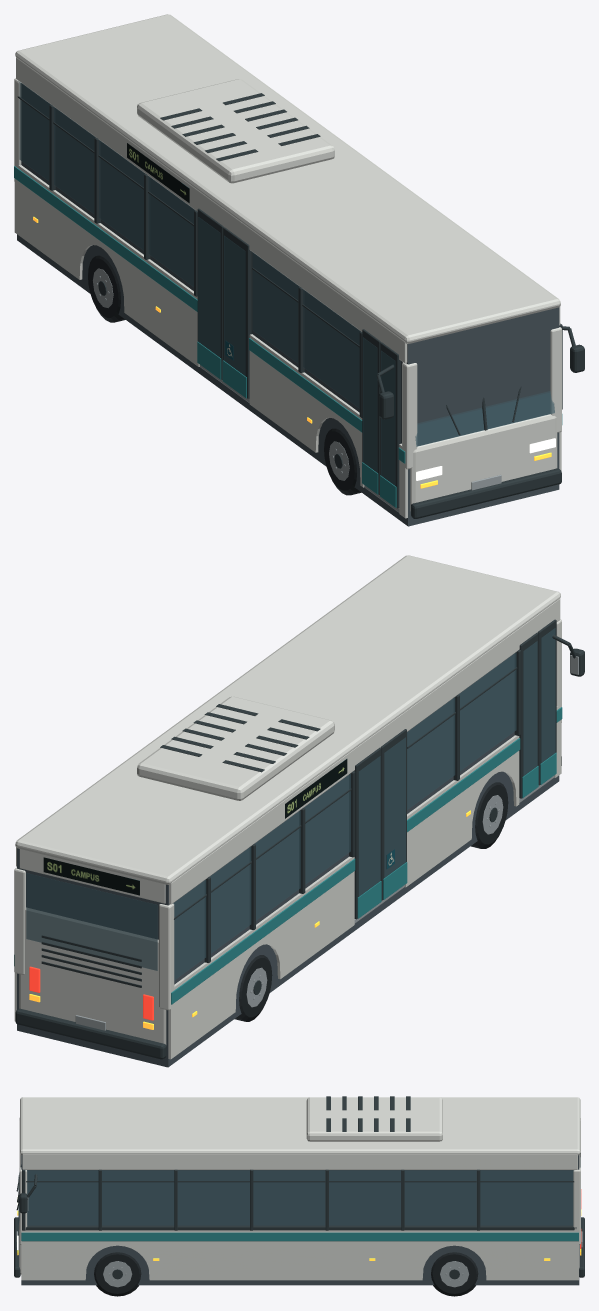
The model's file is SIMUS_City_Bus.fbx.
The picture shows the model from 3 angles, top to bottom: view 1: azimuth 30°, elevation 25°; view 2: azimuth 150°, elevation 25°; view 3: azimuth 270°, elevation 25°; orthographic projection. The views are drawn at different scales.
Parts seen in each view (by area): view 1: BUS_BODY_Paint_LOD0, BUS_WINDOWS_Glass_LOD0, BUS_COL_0, BUS_Roof_AC_LOD0, BUS_COL_2, BUS_COL_1, BUS_DOOR_MIDDLE_Trim_LOD0, BUS_BODY_Trim_LOD0, BUS_DOOR_MIDDLE_Glass_LOD0, BUS_DOOR_FRONT_Trim_LOD0, BUS_BODY_Accent_LOD0, BUS_DOOR_FRONT_Glass_LOD0 (+8 smaller); view 2: BUS_BODY_Paint_LOD0, BUS_WINDOWS_Glass_LOD0, BUS_COL_2, BUS_Roof_AC_LOD0, BUS_COL_1, BUS_BODY_Trim_LOD0, BUS_DOOR_MIDDLE_Trim_LOD0, BUS_COL_0, BUS_DOOR_MIDDLE_Glass_LOD0, BUS_DOOR_FRONT_Trim_LOD0, BUS_BODY_Accent_LOD0, BUS_DOOR_FRONT_Glass_LOD0 (+8 smaller); view 3: BUS_BODY_Paint_LOD0, BUS_WINDOWS_Glass_LOD0, BUS_COL_1, BUS_COL_2, BUS_COL_0, BUS_BODY_Accent_LOD0, BUS_Roof_AC_LOD0, BUS_BODY_Trim_LOD0, BUS_Tire_FL_LOD0, BUS_Tire_RL_LOD0, BUS_WINDOWS_Trim_LOD0, BUS_ROOF_AC_Trim_LOD0 (+2 smaller).
Part boxes in pixels (x1,y1,x2,y2): BUS_BODY_Paint_LOD0: [14, 14, 561, 518]; BUS_WINDOWS_Glass_LOD0: [18, 81, 554, 446]; BUS_COL_0: [291, 280, 559, 526]; BUS_Roof_AC_LOD0: [137, 79, 334, 183]; BUS_COL_2: [17, 83, 134, 325]; BUS_COL_1: [134, 166, 290, 440]; BUS_DOOR_MIDDLE_Trim_LOD0: [197, 208, 251, 398]; BUS_BODY_Trim_LOD0: [49, 104, 562, 518]; BUS_DOOR_MIDDLE_Glass_LOD0: [198, 217, 245, 375]; BUS_DOOR_FRONT_Trim_LOD0: [362, 329, 400, 508]; BUS_BODY_Accent_LOD0: [14, 166, 562, 463]; BUS_DOOR_FRONT_Glass_LOD0: [363, 337, 395, 485]; BUS_BODY_Paint_LOD0: [14, 555, 561, 1059]; BUS_WINDOWS_Glass_LOD0: [26, 652, 516, 980]; BUS_COL_2: [17, 822, 285, 1067]; BUS_Roof_AC_LOD0: [137, 696, 334, 800]; BUS_COL_1: [285, 707, 441, 981]; BUS_BODY_Trim_LOD0: [15, 649, 561, 1059]; BUS_DOOR_MIDDLE_Trim_LOD0: [354, 729, 406, 919]; BUS_COL_0: [442, 653, 559, 866]; BUS_DOOR_MIDDLE_Glass_LOD0: [358, 737, 405, 896]; BUS_DOOR_FRONT_Trim_LOD0: [519, 619, 556, 798]; BUS_BODY_Accent_LOD0: [14, 707, 562, 1004]; BUS_DOOR_FRONT_Glass_LOD0: [523, 628, 555, 775]; BUS_BODY_Paint_LOD0: [19, 1097, 580, 1280]; BUS_WINDOWS_Glass_LOD0: [18, 1157, 580, 1225]; BUS_COL_1: [188, 1170, 411, 1285]; BUS_COL_2: [412, 1155, 579, 1285]; BUS_COL_0: [21, 1155, 188, 1285]; BUS_BODY_Accent_LOD0: [21, 1232, 578, 1241]; BUS_Roof_AC_LOD0: [306, 1097, 442, 1141]; BUS_BODY_Trim_LOD0: [14, 1169, 584, 1277]; BUS_Tire_FL_LOD0: [94, 1252, 141, 1296]; BUS_Tire_RL_LOD0: [431, 1252, 478, 1296]; BUS_WINDOWS_Trim_LOD0: [16, 1166, 574, 1210]; BUS_ROOF_AC_Trim_LOD0: [326, 1096, 410, 1131].
Size of what is drawn, in the model's own units: 325 by 336 by 1110.
